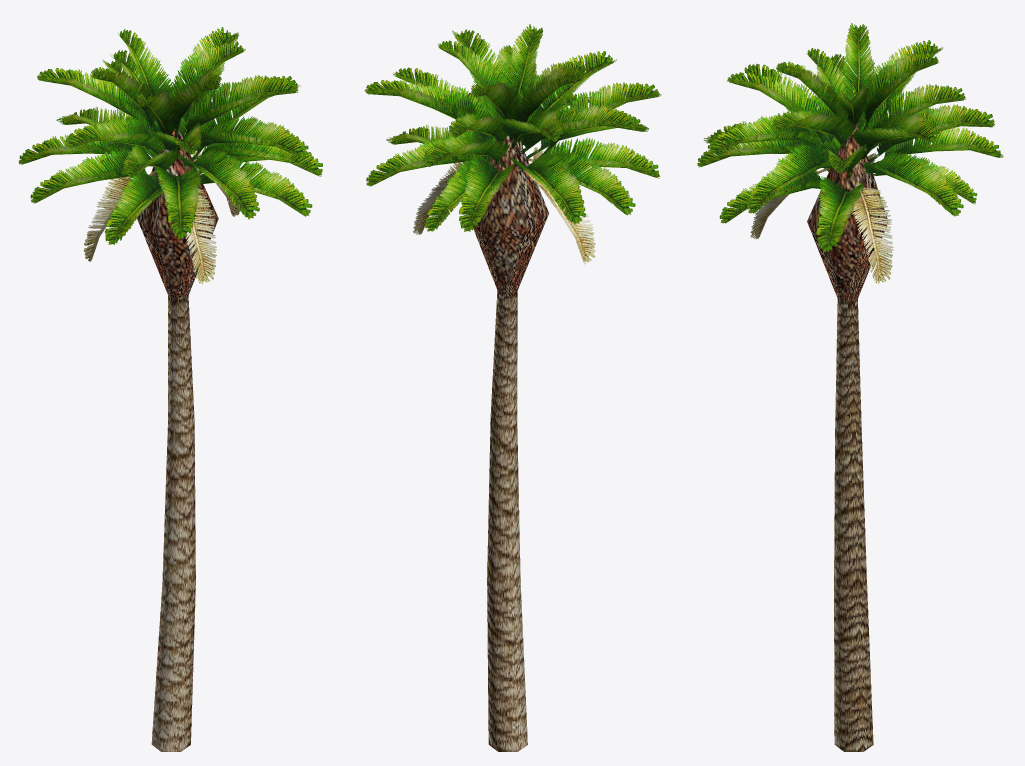
Rendered from tropic_palm.glb.
The picture shows the model from 3 angles, left to right: view 1: azimuth 30°, elevation 25°; view 2: azimuth 150°, elevation 25°; view 3: azimuth 270°, elevation 25°; orthographic projection.
Parts seen in each view (by area): view 1: tree_cretan_date_palm_01; view 2: tree_cretan_date_palm_01; view 3: tree_cretan_date_palm_01.
Part boxes in pixels (x1,y1,x2,y2): tree_cretan_date_palm_01: [18, 27, 322, 751]; tree_cretan_date_palm_01: [364, 24, 661, 751]; tree_cretan_date_palm_01: [697, 23, 1003, 751].
Bounding box in the file's own units: 10.69 × 26.26 × 10.84.
Materials: 1 (1 with a texture image).
